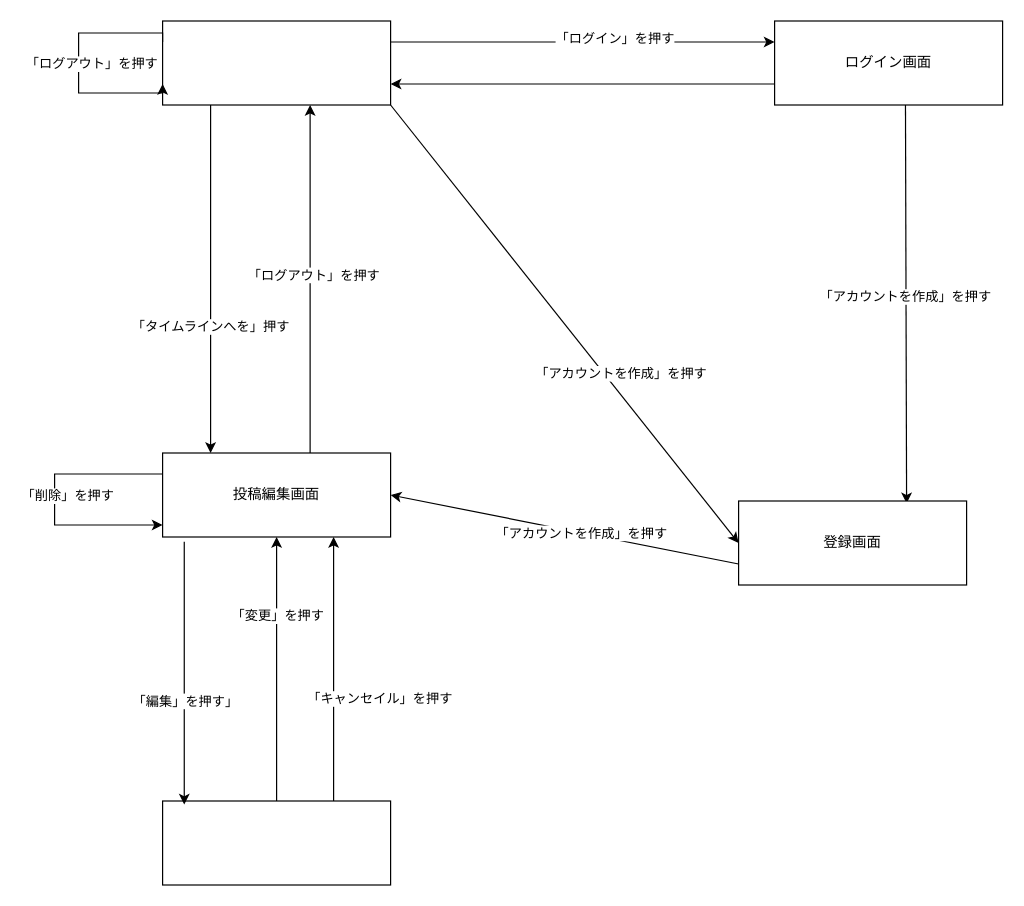
Image size: 1024x906. Some labels were removed from this diagram. Each missing label, with the centre of its shape:
"トップ画面" belongs at [276,62].
"投稿一覧画面" belongs at [276,842].
